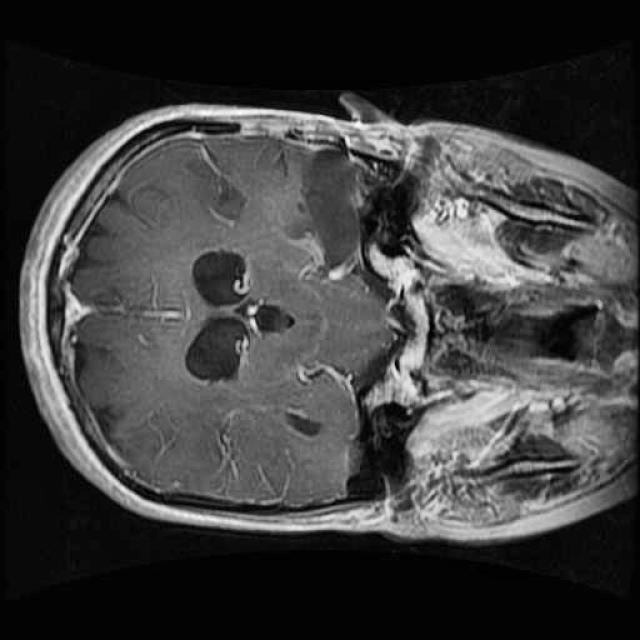Non-Tumor: (286, 126, 376, 304)
